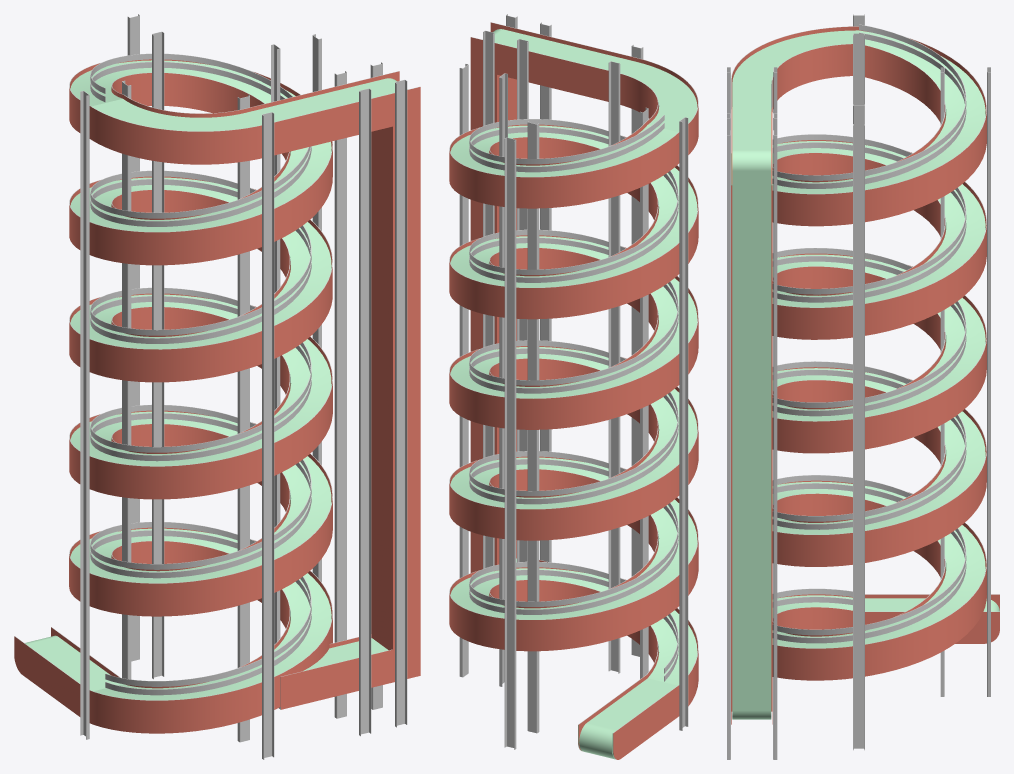
Rendered from Conveyor belt Vertical_Spiral_FBX.fbx.
3 renders of one model, left to right at view 1: azimuth 30°, elevation 25°; view 2: azimuth 150°, elevation 25°; view 3: azimuth 270°, elevation 25°, orthographic. The views are drawn at different scales.
Visible parts, largest first — view 1: Sides, Frame, Belt; view 2: Frame, Sides, Belt; view 3: Sides, Belt, Frame.
Part boxes in pixels (x1,y1,x2,y2): Sides: (14, 59, 420, 733); Frame: (14, 14, 420, 759); Belt: (25, 60, 407, 700); Frame: (449, 14, 698, 749); Sides: (449, 22, 698, 759); Belt: (450, 29, 697, 759); Sides: (731, 26, 999, 724); Belt: (731, 30, 999, 719); Frame: (727, 14, 999, 759).
Bounding box in the file's own units: 194 × 440 × 174.
